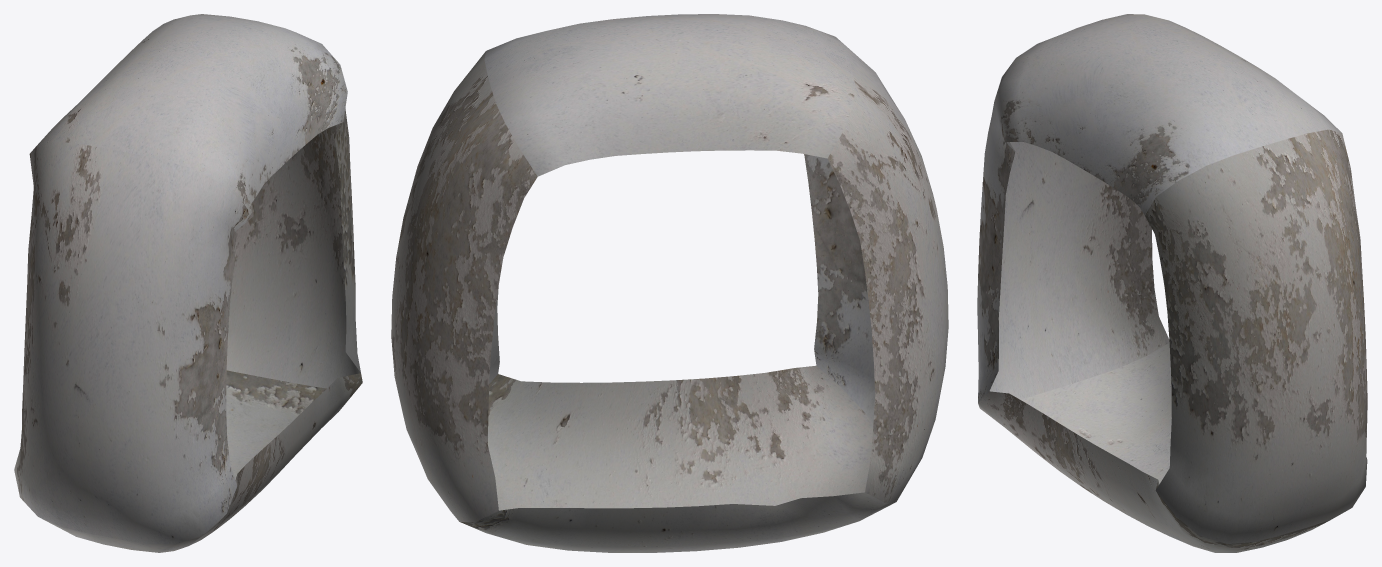
The picture shows the model from 3 angles, left to right: view 1: azimuth 30°, elevation 25°; view 2: azimuth 150°, elevation 25°; view 3: azimuth 270°, elevation 25°; orthographic projection. The views are drawn at different scales.
Parts seen in each view (by area): view 1: 55; view 2: 55; view 3: 55.
Part boxes in pixels (x1,y1,x2,y2): 55: [14, 14, 362, 552]; 55: [391, 14, 948, 552]; 55: [977, 14, 1367, 552].
Size of the model in its own units: 292 by 330 by 249.
